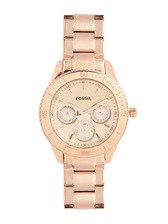watch: (36, 13, 142, 212)
